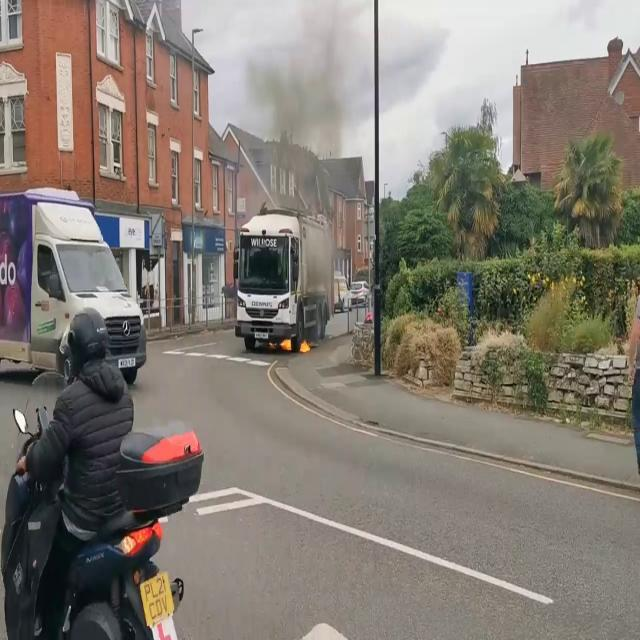Fire: (279, 335, 308, 355)
Smoke: (250, 1, 360, 287)
